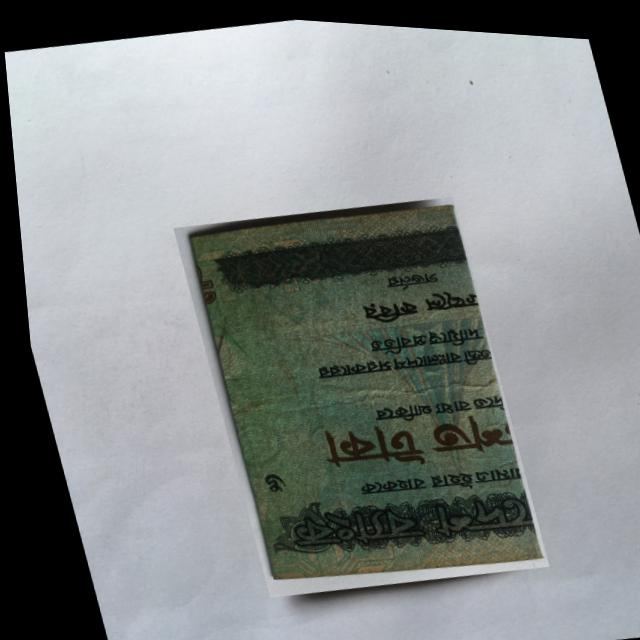Taka: (166, 175, 543, 609)
